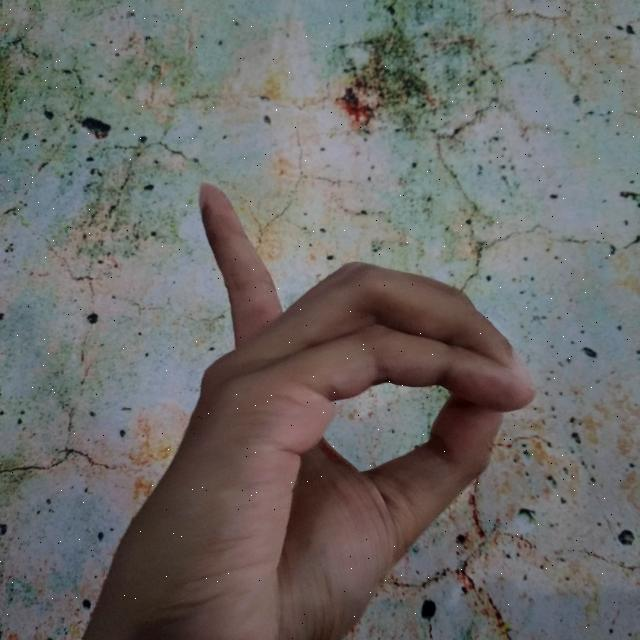D: (74, 180, 536, 640)
